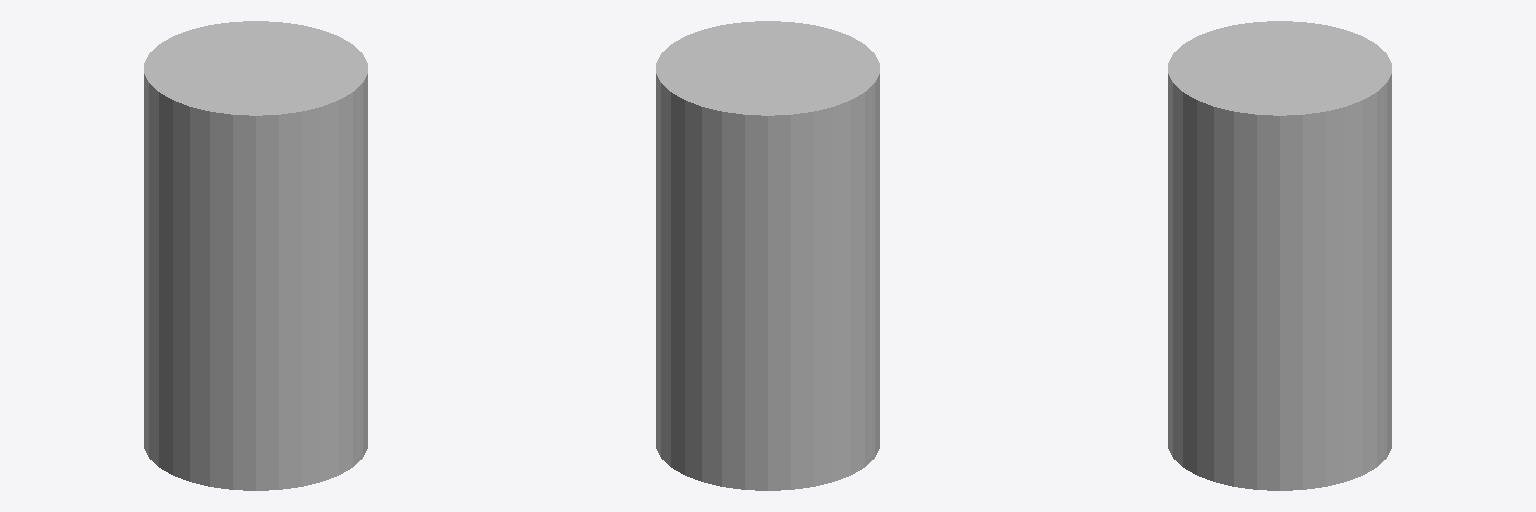
File: 6-hull_visual_6-hull.obj
The picture shows the model from 3 angles: view 1: azimuth 30°, elevation 25°; view 2: azimuth 150°, elevation 25°; view 3: azimuth 270°, elevation 25°; orthographic projection.
Parts seen in each view (by area): view 1: 6-hull_visual_6-hull; view 2: 6-hull_visual_6-hull; view 3: 6-hull_visual_6-hull.
Part boxes in pixels (left/top/right/bottom): 6-hull_visual_6-hull: left=144, top=21, right=367, bottom=490; 6-hull_visual_6-hull: left=656, top=21, right=879, bottom=490; 6-hull_visual_6-hull: left=1168, top=21, right=1391, bottom=490.
Bounding box in the file's own units: 0.1654 × 0.305 × 0.1644.